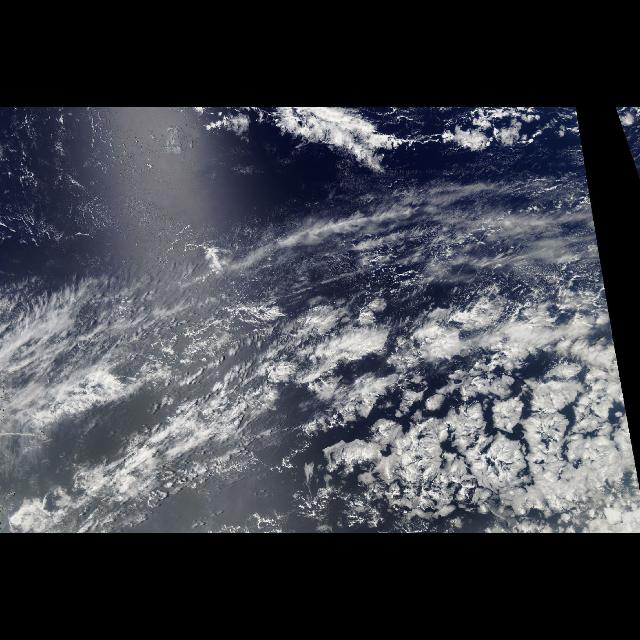Flower: (266, 286, 640, 534)
Sugar: (10, 112, 212, 254)
